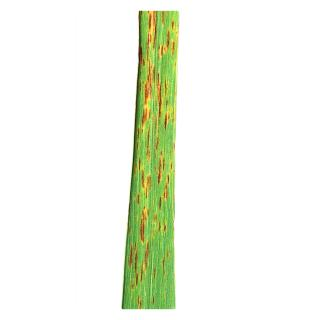Bercak-Cokelat-Sempit: (144, 10, 181, 59), (157, 76, 172, 130), (131, 244, 149, 286), (157, 155, 173, 183), (144, 60, 150, 127), (152, 216, 171, 236), (138, 173, 152, 194), (138, 205, 145, 245), (162, 254, 172, 270), (152, 135, 161, 150), (158, 196, 166, 208), (138, 157, 144, 167), (153, 268, 159, 278), (137, 296, 142, 308), (135, 129, 141, 137), (152, 294, 156, 306), (136, 138, 140, 148)
